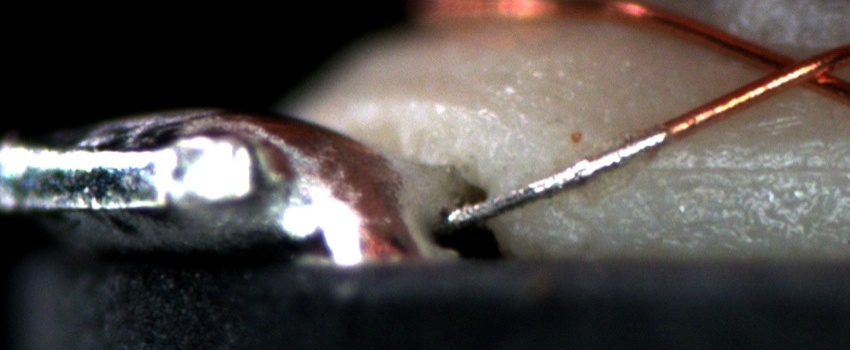CL: (744, 40, 846, 98)
DL: (632, 138, 850, 202)
TS: (447, 126, 667, 231)
